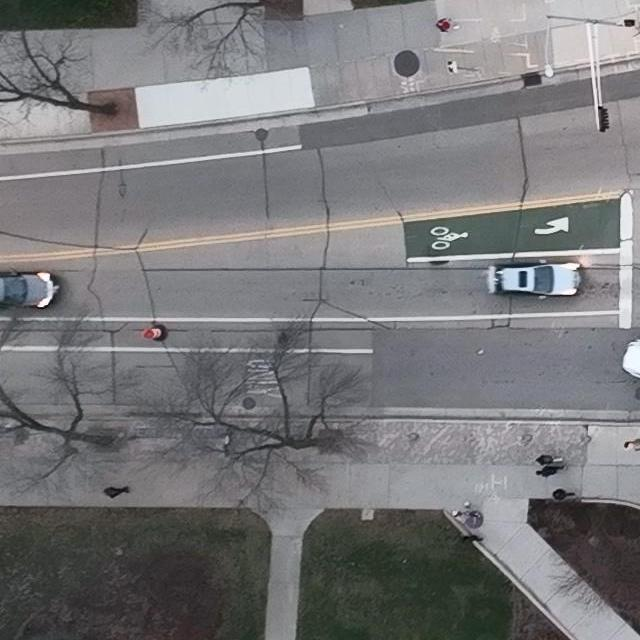car: (487, 257, 581, 299), (0, 267, 60, 309)
